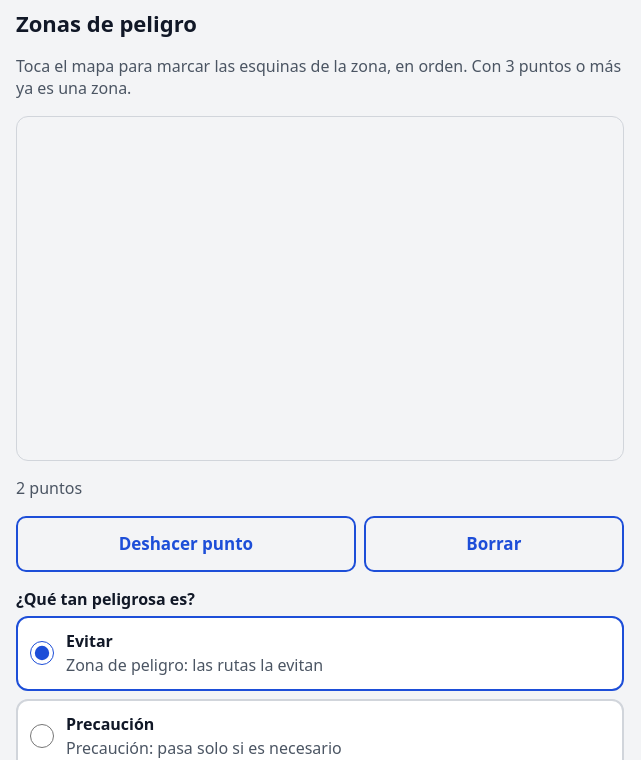
Scenario: ZonasPeligro › Deshacer quita el último punto y Borrar todos
Click the button "Deshacer punto": (186, 544) top-left (16, 516), bottom-right (356, 572)
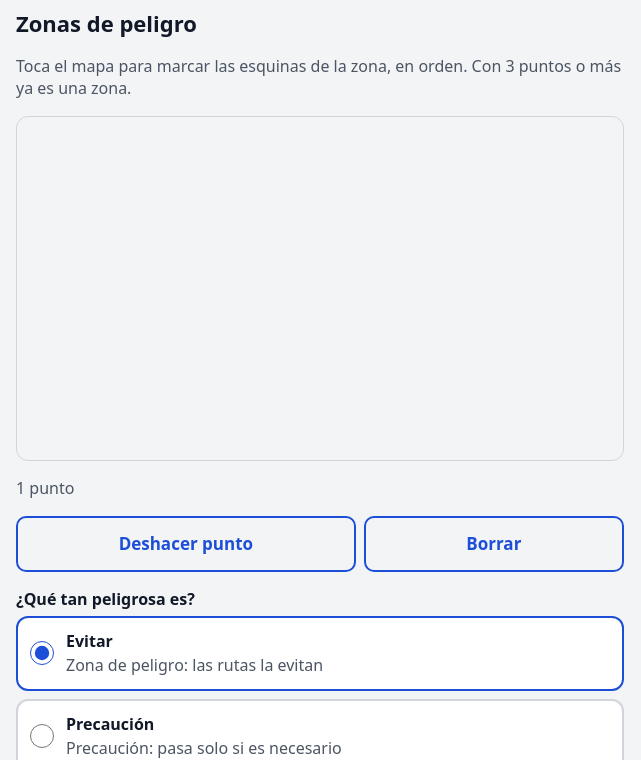
Expected: the text "1 punto" is shown, top-left (16, 477), bottom-right (74, 499)
Click the button "Borrar": (494, 544) top-left (364, 516), bottom-right (624, 572)
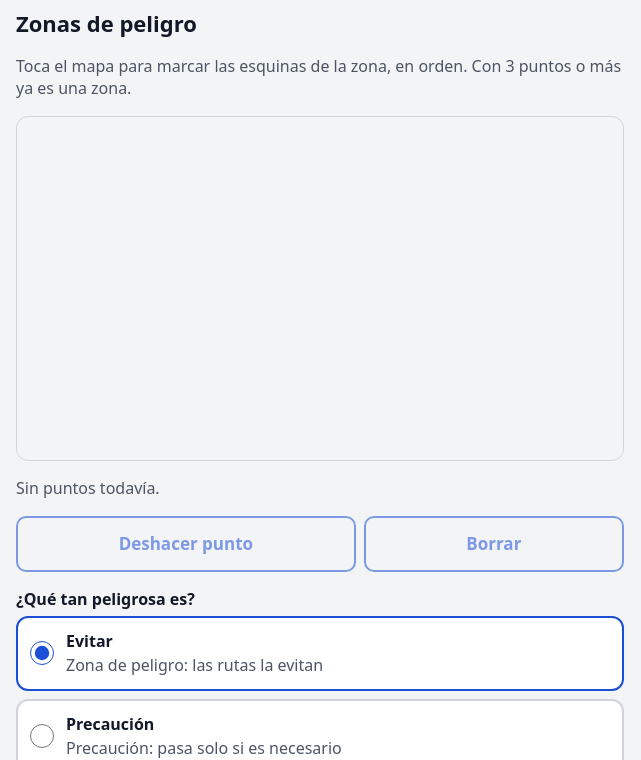
Expected: the text "Sin puntos todavía." is shown, top-left (16, 477), bottom-right (160, 499)
